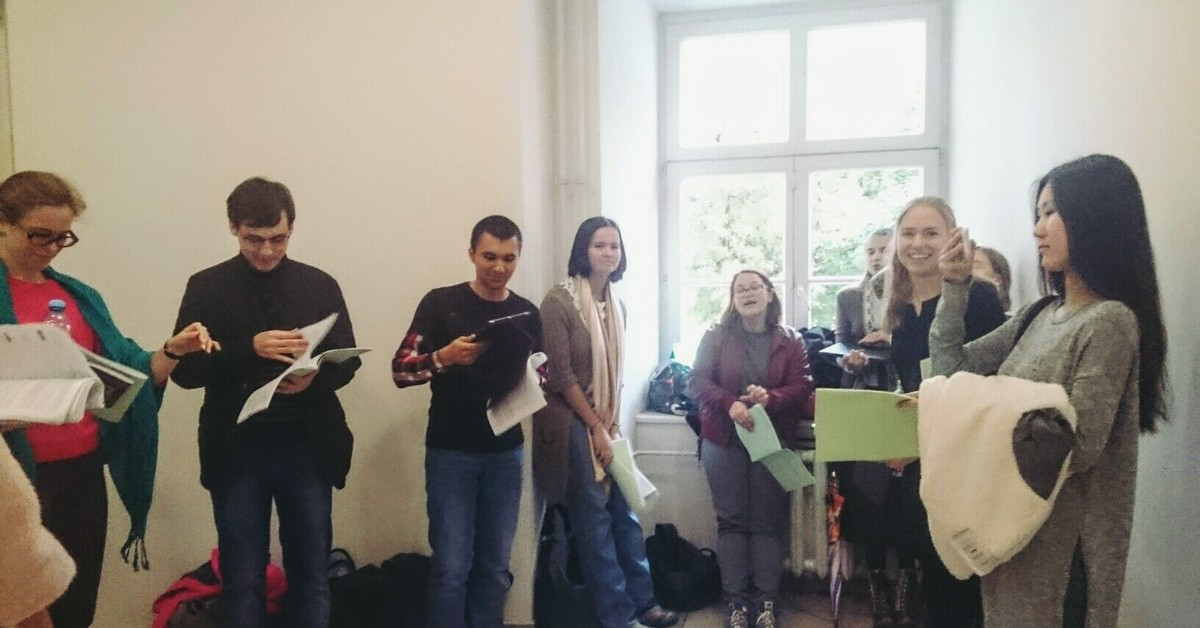students: (926, 154, 1167, 627), (1, 171, 221, 622), (171, 177, 363, 622), (390, 214, 544, 618), (538, 217, 680, 624), (887, 194, 1007, 622), (691, 267, 814, 623), (836, 227, 924, 627), (967, 241, 1014, 317)
